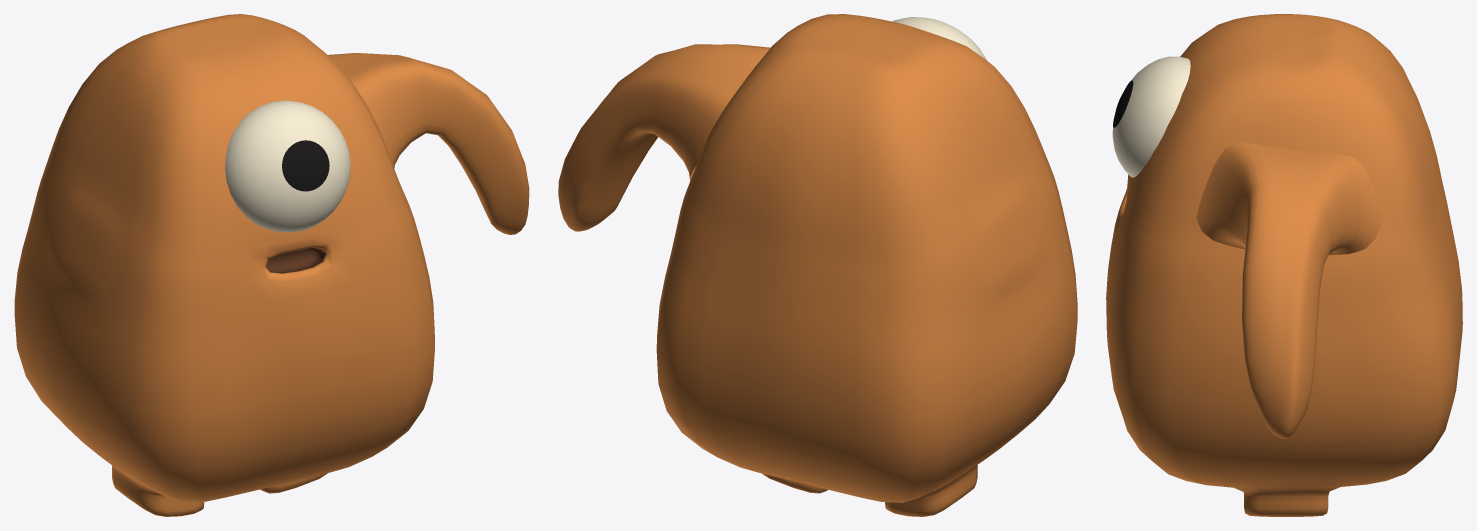
The model's file is THE LAST ONE.fbx.
The picture shows the model from 3 angles, left to right: view 1: azimuth 30°, elevation 25°; view 2: azimuth 150°, elevation 25°; view 3: azimuth 270°, elevation 25°; orthographic projection.
Parts seen in each view (by area): view 1: Cube, Cube.001, Sphere; view 2: Cube, Cube.001, Sphere; view 3: Cube, Cube.001, Sphere.
Part boxes in pixels (x1=…): Cube: x1=14, y1=14, x2=434, y2=516; Cube.001: x1=328, y1=53, x2=529, y2=234; Sphere: x1=225, y1=100, x2=350, y2=232; Cube: x1=656, y1=14, x2=1077, y2=516; Cube.001: x1=558, y1=44, x2=770, y2=231; Sphere: x1=892, y1=17, x2=987, y2=60; Cube: x1=1106, y1=14, x2=1462, y2=516; Cube.001: x1=1196, y1=142, x2=1383, y2=438; Sphere: x1=1112, y1=56, x2=1190, y2=177.
Bounding box in the file's own units: 332 × 308 × 222.
